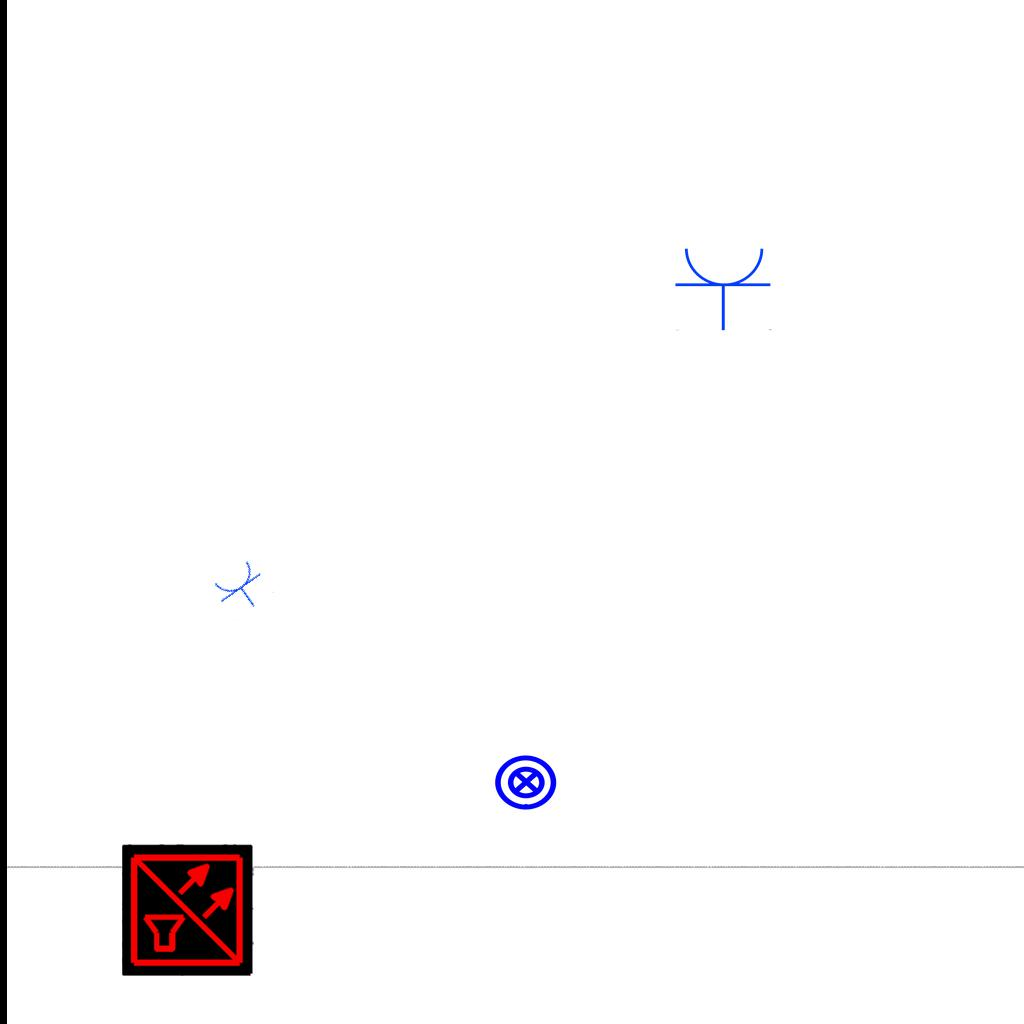OKW_Multisensormelder_(Kombination_optischer_Rauch-Kahlenmonoxid_Waerme-Melder): (122, 844, 254, 976)
Schukosteckdose_einfach: (674, 244, 774, 331), (209, 556, 275, 621)
Taster_beleuchtet: (493, 749, 559, 815)
